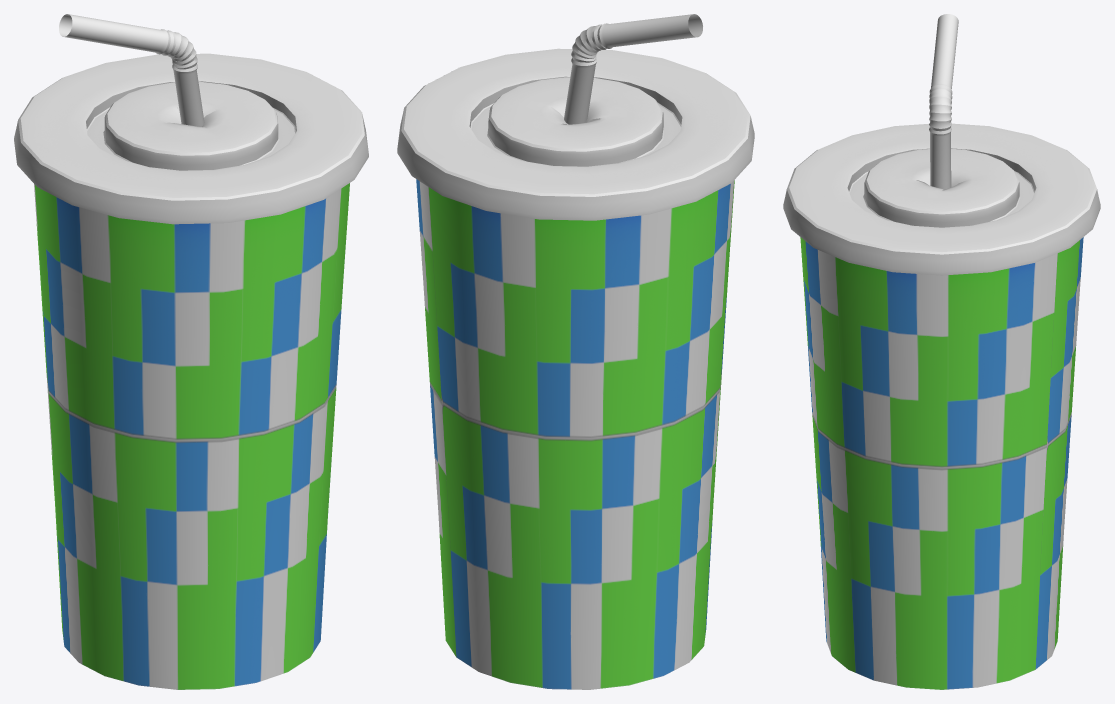
File: LilPumpDraank.fbx
The picture shows the model from 3 angles, left to right: view 1: azimuth 30°, elevation 25°; view 2: azimuth 150°, elevation 25°; view 3: azimuth 270°, elevation 25°; orthographic projection. The views are drawn at different scales.
Visible parts, largest first — view 1: LilDraank; view 2: LilDraank; view 3: LilDraank.
Boxes of the visible parts, left/top/right/bottom form: LilDraank: left=14, top=14, right=368, bottom=689; LilDraank: left=397, top=14, right=754, bottom=689; LilDraank: left=783, top=14, right=1100, bottom=689.
Bounding box in the file's own units: 3.49 × 6.98 × 3.49.
